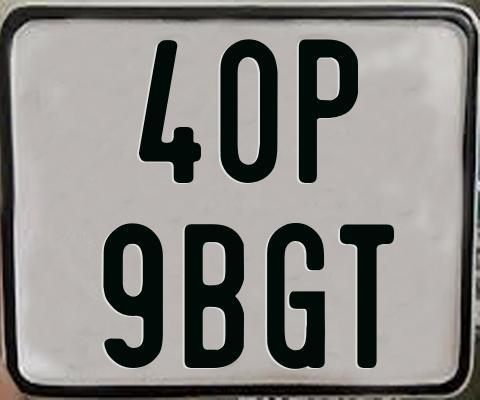0: (218, 39, 278, 186)
4: (138, 38, 205, 183)
9: (101, 222, 161, 367)
B: (184, 221, 249, 371)
G: (265, 220, 325, 368)
P: (299, 36, 358, 184)
T: (340, 221, 394, 370)
